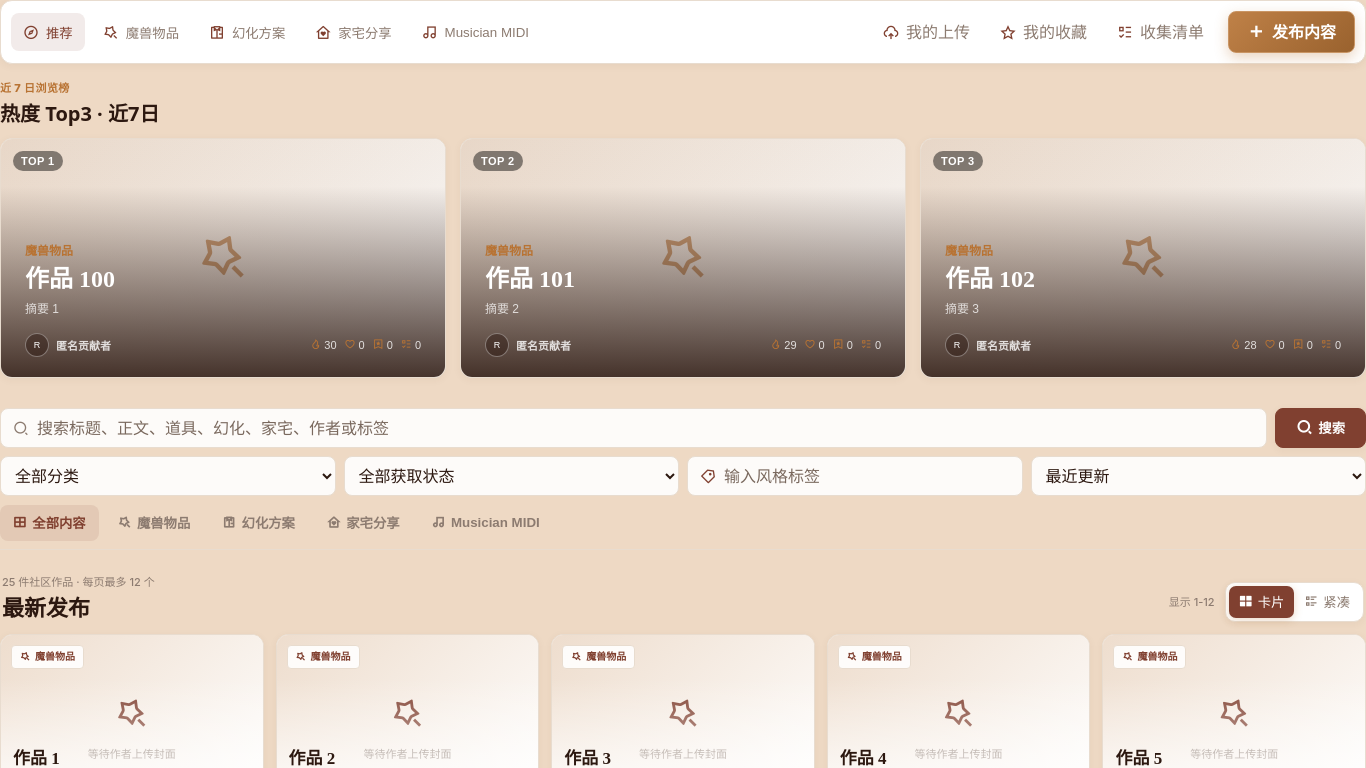
Test: RPDBMain › paginates search results with at most 12 works per page
Expected: the number of elements with test id "rpdb-featured-metrics" is 3, top-left (310, 338), bottom-right (421, 350); top-left (770, 338), bottom-right (881, 350); top-left (1230, 338), bottom-right (1341, 350)
Expected: the element titled "近7日浏览" is shown, top-left (310, 338), bottom-right (337, 350)
Step 1. Click the button with test id "rpdb-compact-view" → (1327, 602), box top-left (1294, 586), bottom-right (1360, 618)
(page scrolled)
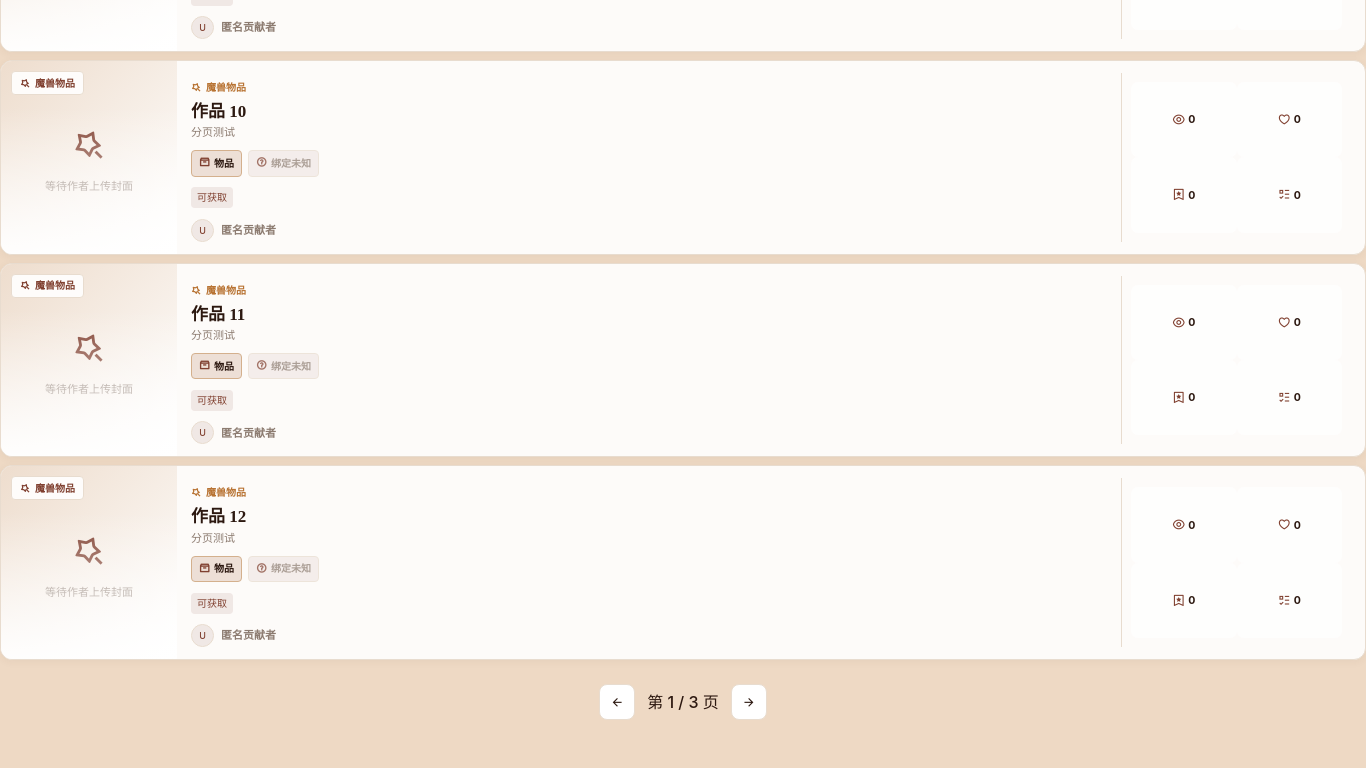
Step 2. Click the 6th button → (749, 702), box top-left (731, 684), bottom-right (767, 720)
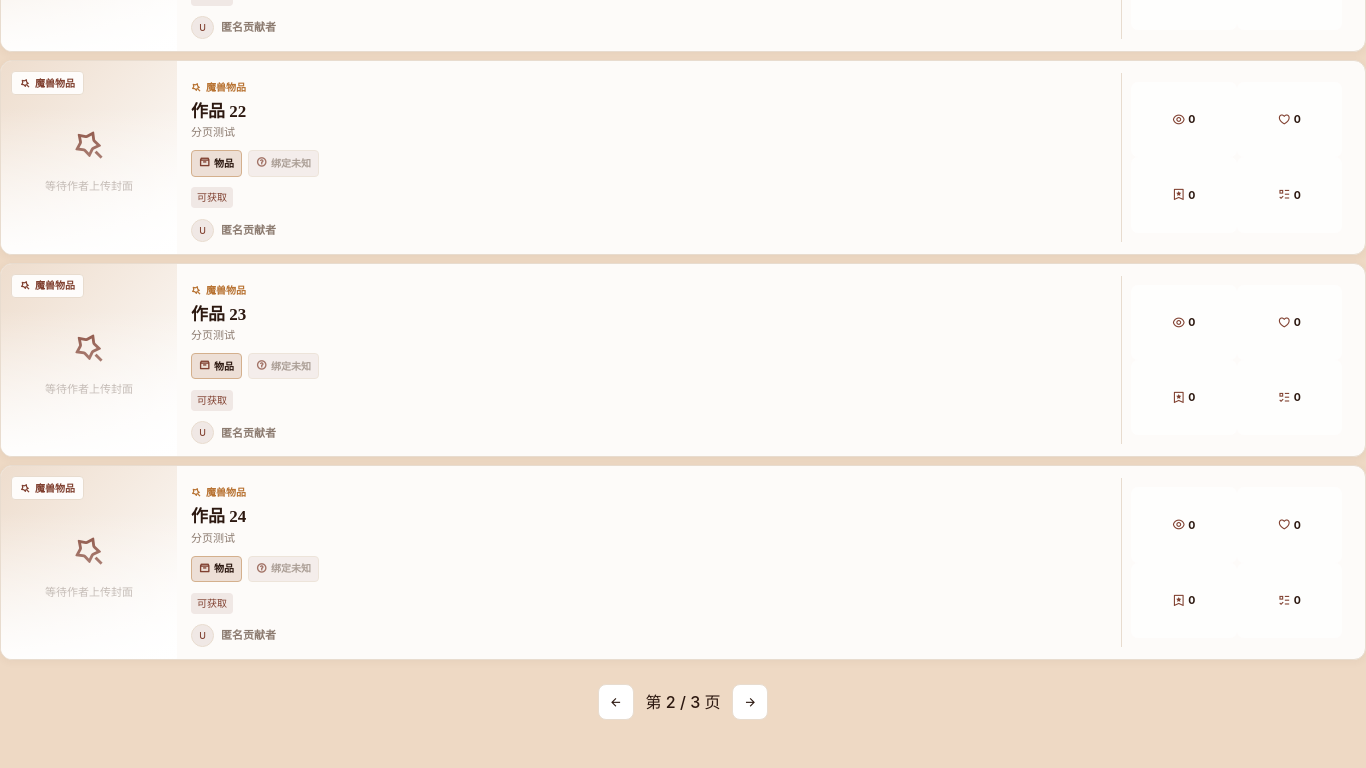
Expected: the footer with test id "rpdb-pagination" reads "第 2 / 3 页", top-left (646, 692), bottom-right (720, 712)
